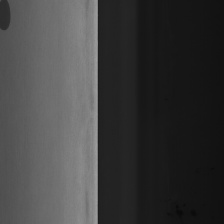oil_spot: (0, 0, 17, 39)
